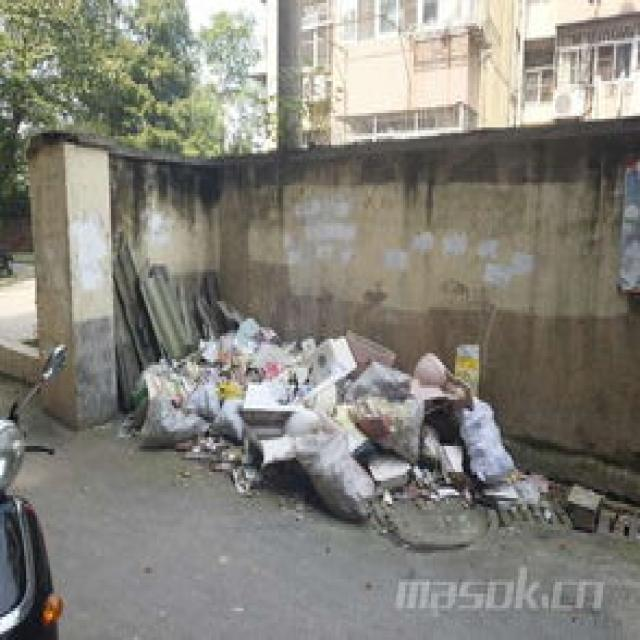garbage: (114, 316, 546, 518)
